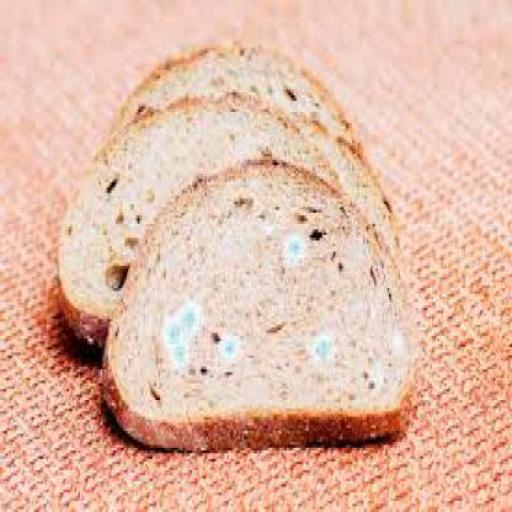biodegradable: (106, 157, 416, 445), (58, 86, 344, 342), (97, 40, 352, 168), (291, 112, 406, 277)
